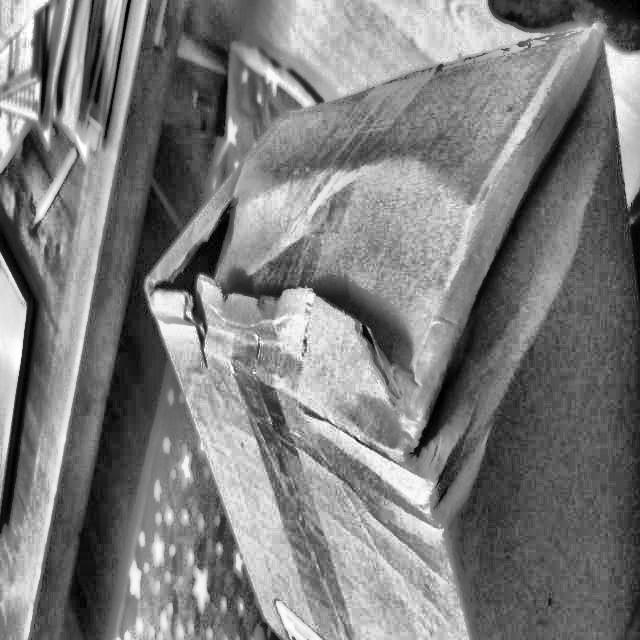box: (123, 11, 639, 635)
hole: (146, 191, 236, 334)
